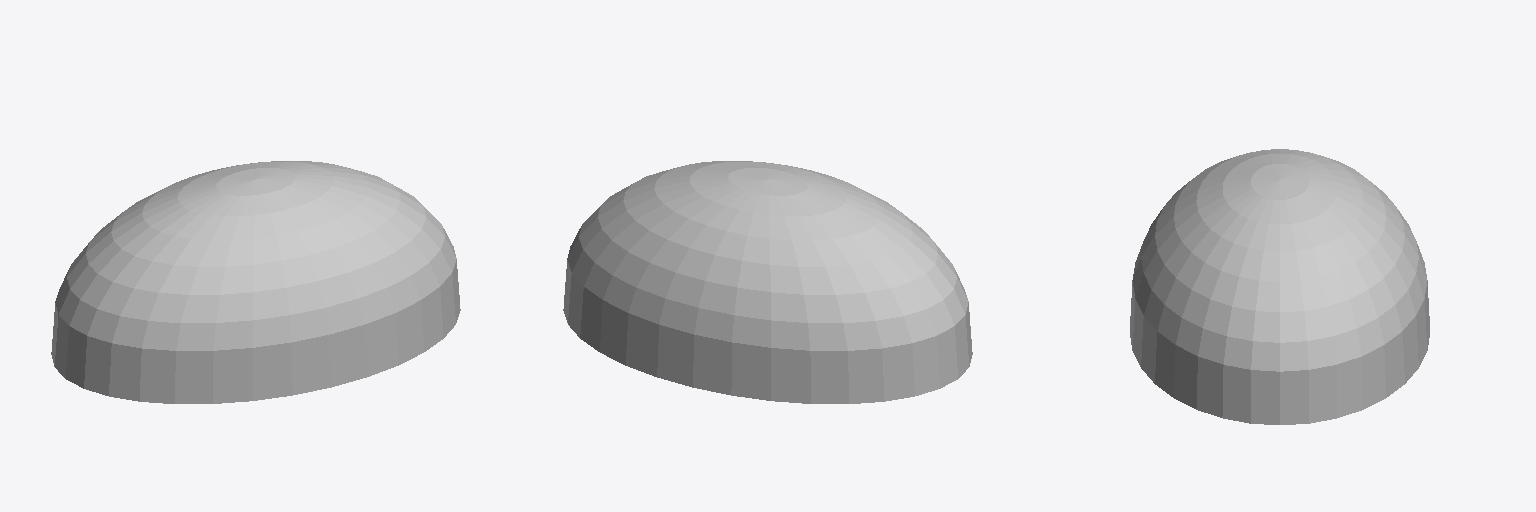
The model's file is Dome.obj.
3 views of the same model, side by side, from view 1: azimuth 30°, elevation 25°; view 2: azimuth 150°, elevation 25°; view 3: azimuth 270°, elevation 25° (orthographic).
Parts seen in each view (by area): view 1: Dome; view 2: Dome; view 3: Dome.
Part boxes in pixels (x1,y1,x2,y2): Dome: (51,161,460,403); Dome: (563,161,972,403); Dome: (1130,149,1429,424).
Size of the model in its own units: 8.64 by 3.32 by 5.91.